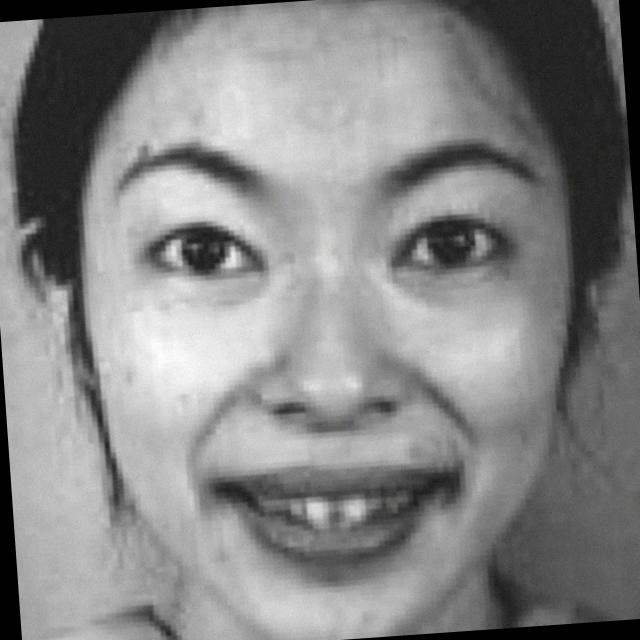surprise: (59, 26, 598, 640)
